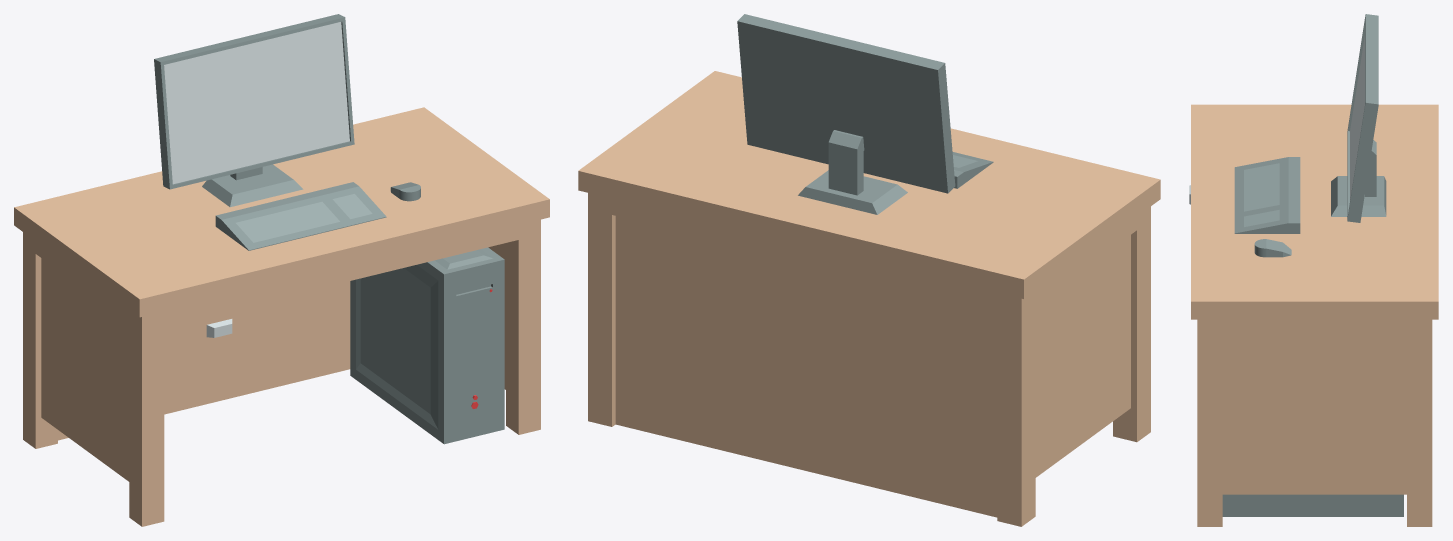
3 renders of one model, left to right at view 1: azimuth 30°, elevation 25°; view 2: azimuth 150°, elevation 25°; view 3: azimuth 270°, elevation 25°, orthographic. The views are drawn at different scales.
Visible parts, largest first — view 1: desk(Clone), computerScreen(Clone), PC, computerKeyboard(Clone), drawer; view 2: desk(Clone), computerScreen(Clone), computerKeyboard(Clone); view 3: desk(Clone), computerScreen(Clone), computerKeyboard(Clone), PC, computerMouse(Clone).
Boxes of the visible parts, bbox=[...] form: desk(Clone): bbox=[14, 107, 549, 526]; computerScreen(Clone): bbox=[154, 14, 354, 207]; PC: bbox=[350, 247, 504, 444]; computerKeyboard(Clone): bbox=[215, 182, 386, 250]; drawer: bbox=[164, 299, 274, 356]; desk(Clone): bbox=[578, 71, 1160, 526]; computerScreen(Clone): bbox=[737, 14, 955, 214]; computerKeyboard(Clone): bbox=[952, 152, 993, 188]; desk(Clone): bbox=[1191, 104, 1438, 526]; computerScreen(Clone): bbox=[1331, 14, 1386, 222]; computerKeyboard(Clone): bbox=[1234, 157, 1300, 233]; PC: bbox=[1222, 494, 1403, 516]; computerMouse(Clone): bbox=[1254, 239, 1291, 257].
Size of the model in its own units: 1.02 by 0.9043 by 0.5473.
8 materials, 1 textured.
